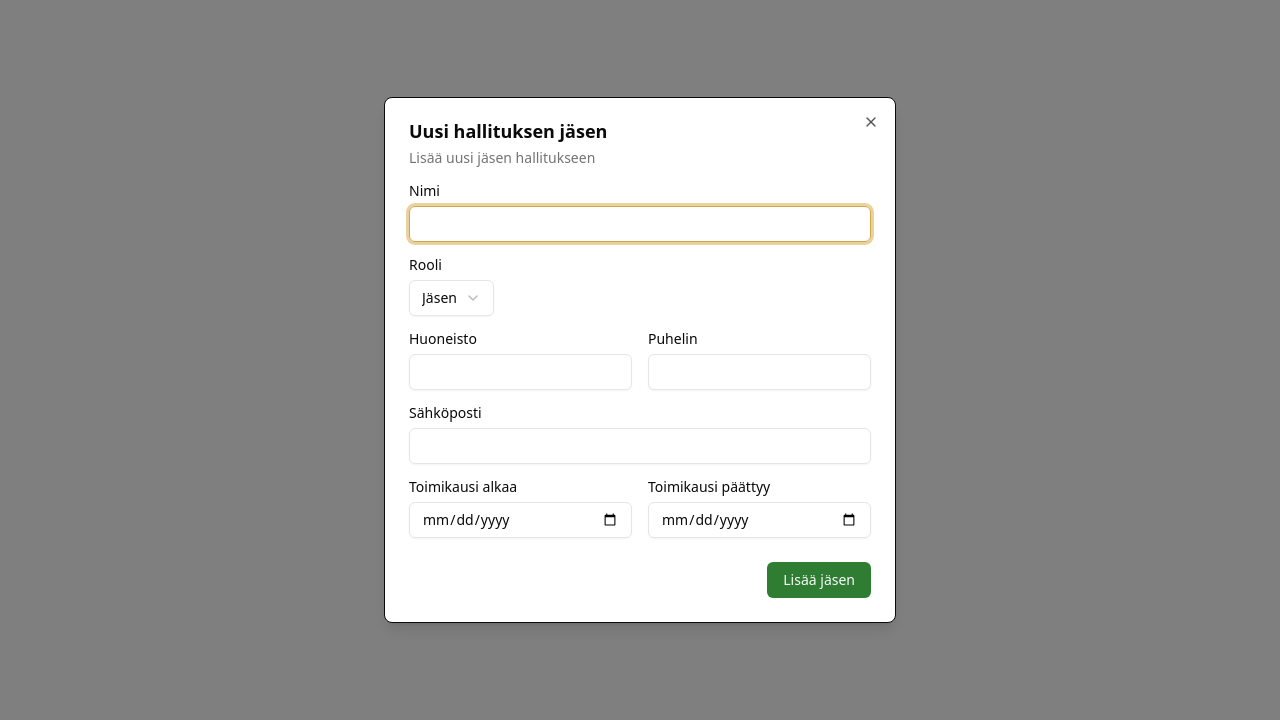
BoardMemberFormDialog › shows validation errors when submitting empty form
The image size is (1280, 720).
Click the button "Lisää jäsen" at (819, 580), box [767,562,871,598]
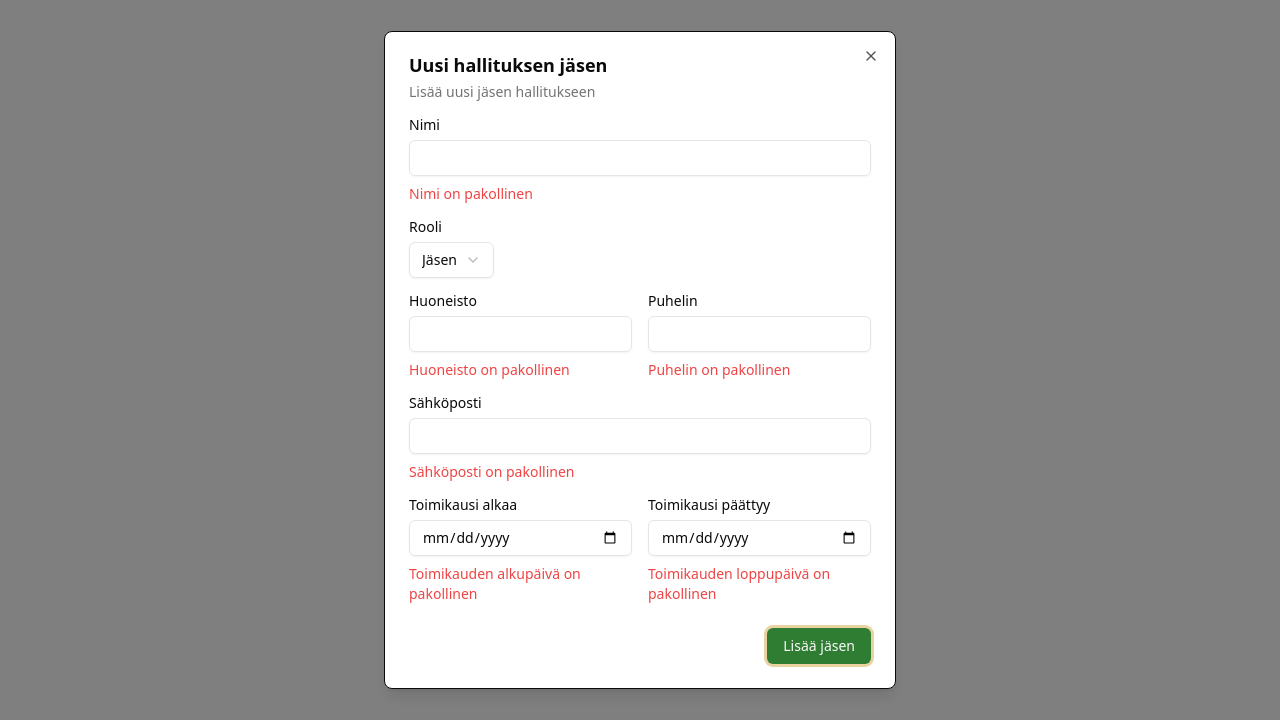
expect the text "Nimi on pakollinen" is shown: met, box [409,184,533,203]
expect the text "Huoneisto on pakollinen" is shown: met, box [409,360,570,379]
expect the text "Sähköposti on pakollinen" is shown: met, box [409,462,574,481]
